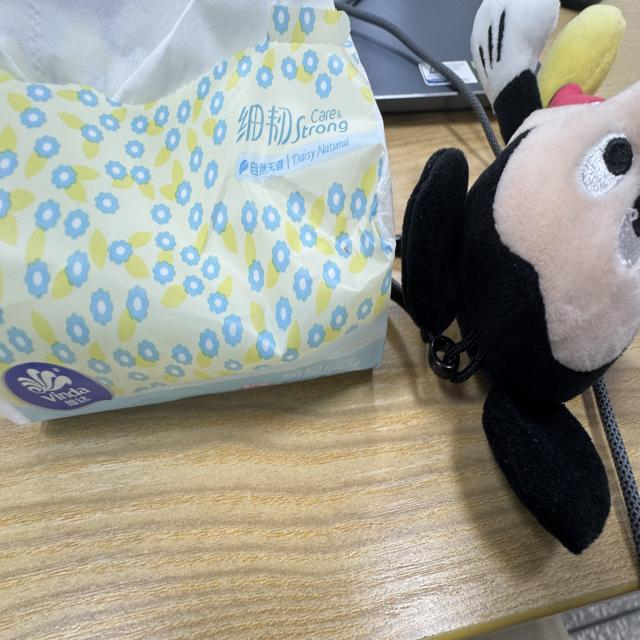mickey: (402, 0, 639, 553)
tissue: (0, 0, 396, 423)
